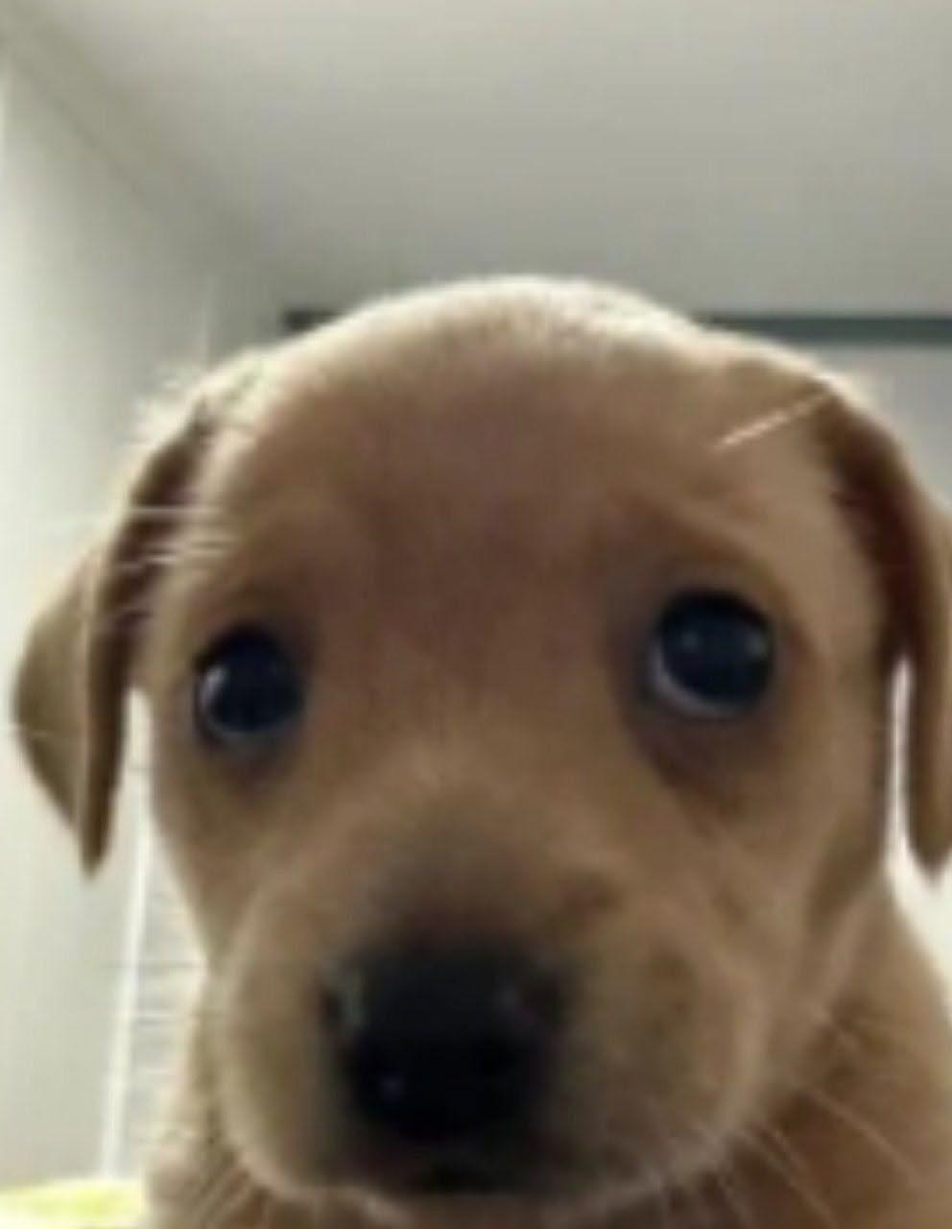puppy-dog: (7, 276, 952, 1229)
